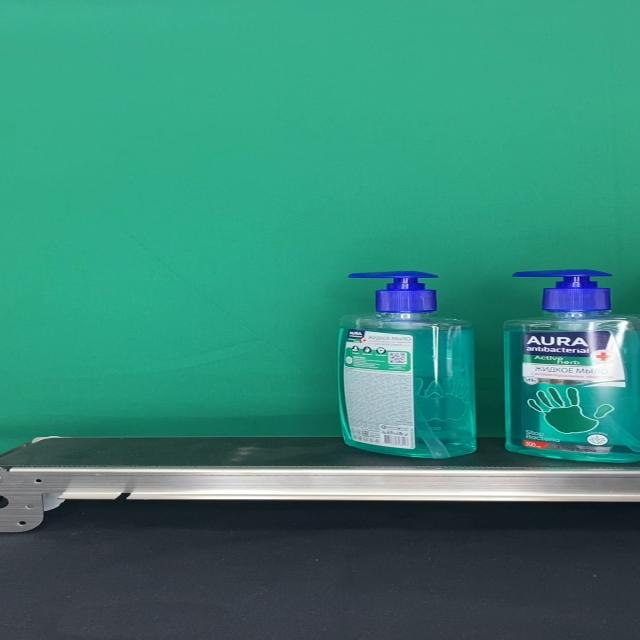Bottle: (337, 271, 477, 459), (504, 270, 640, 463)
Cap: (513, 270, 612, 312), (347, 272, 439, 314)
